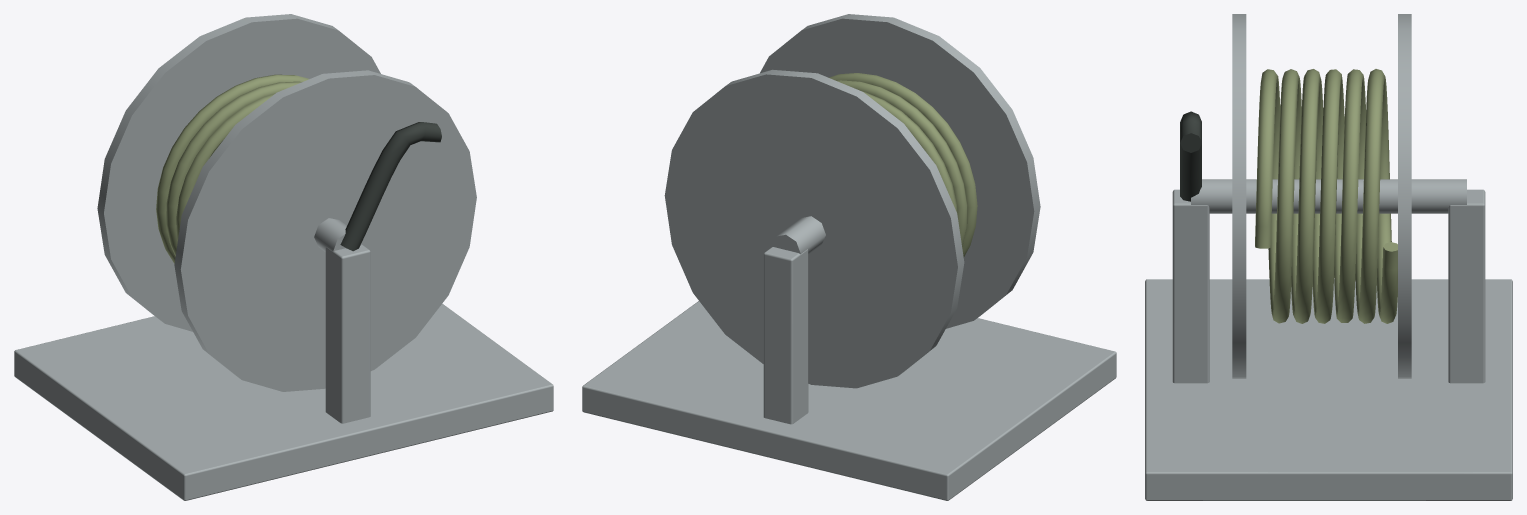
File: water-collection-and-purification-hose-reel-c72bb6a9__20202.glb
3 views of the same model, side by side, from view 1: azimuth 30°, elevation 25°; view 2: azimuth 150°, elevation 25°; view 3: azimuth 270°, elevation 25° (orthographic). The views are drawn at different scales.
Parts seen in each view (by area): view 1: hose-reel, crank/dark; view 2: hose-reel; view 3: hose-reel, crank/dark.
Part boxes in pixels (box(x1,y1,x2,y2)): hose-reel: box(14, 14, 553, 500); crank/dark: box(340, 122, 441, 251); hose-reel: box(582, 14, 1116, 500); hose-reel: box(1145, 14, 1512, 500); crank/dark: box(1180, 111, 1201, 201).
Size of the model in its own units: 0.5 by 0.45 by 0.4.
